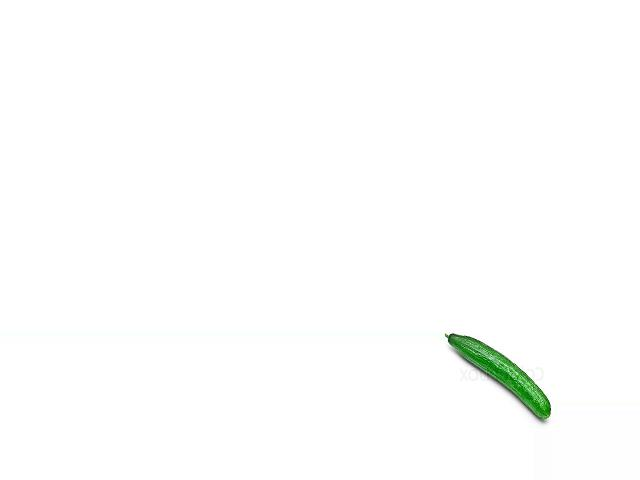cucumber: (443, 333, 550, 420)
